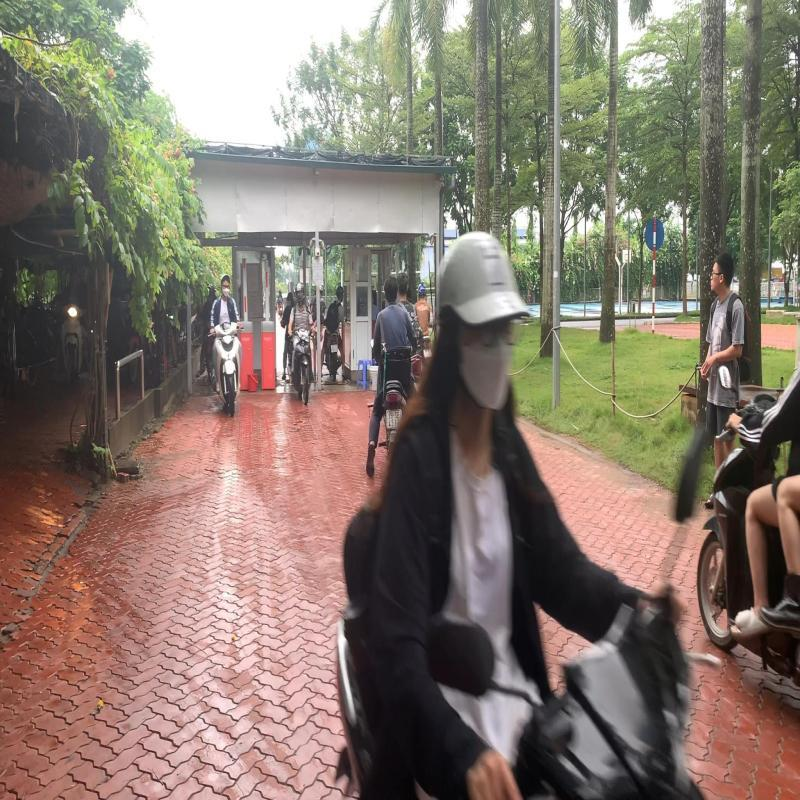nohelmet: (384, 274, 399, 304), (396, 272, 409, 296)
